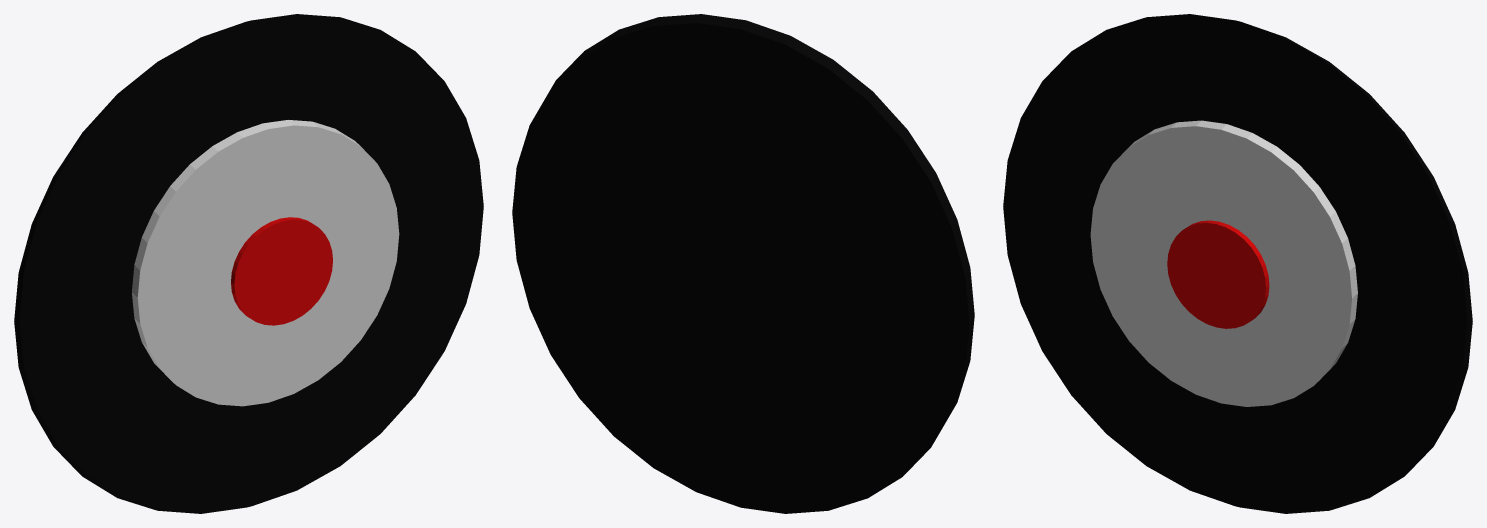
File: Target.fbx
The picture shows the model from 3 angles, left to right: view 1: azimuth 30°, elevation 25°; view 2: azimuth 150°, elevation 25°; view 3: azimuth 330°, elevation 25°; orthographic projection.
Visible parts, largest first — view 1: Cylinder; view 2: Cylinder; view 3: Cylinder.
Part boxes in pixels (x1,y1,x2,y2): Cylinder: [14, 14, 483, 513]; Cylinder: [512, 14, 974, 513]; Cylinder: [1003, 14, 1472, 513].
Size of the model in its own units: 224 by 227 by 25.72.
